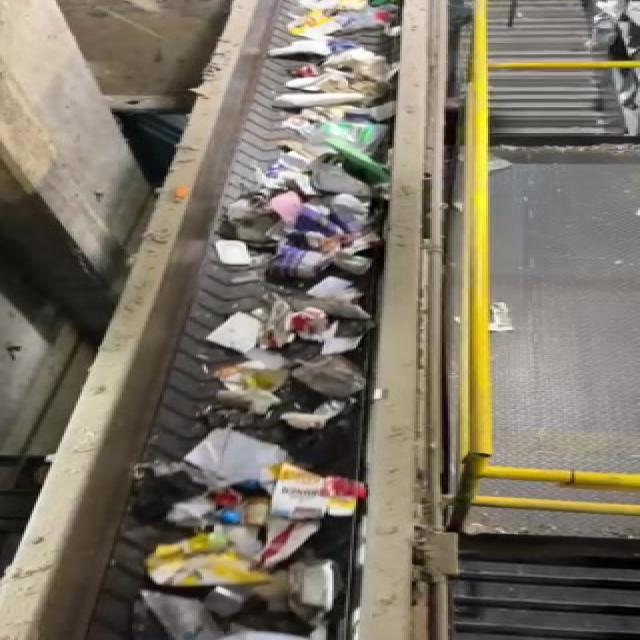paper: (255, 459, 402, 530), (185, 425, 284, 477)
pet: (148, 538, 270, 589)
pp: (125, 588, 245, 640), (298, 555, 358, 619)
